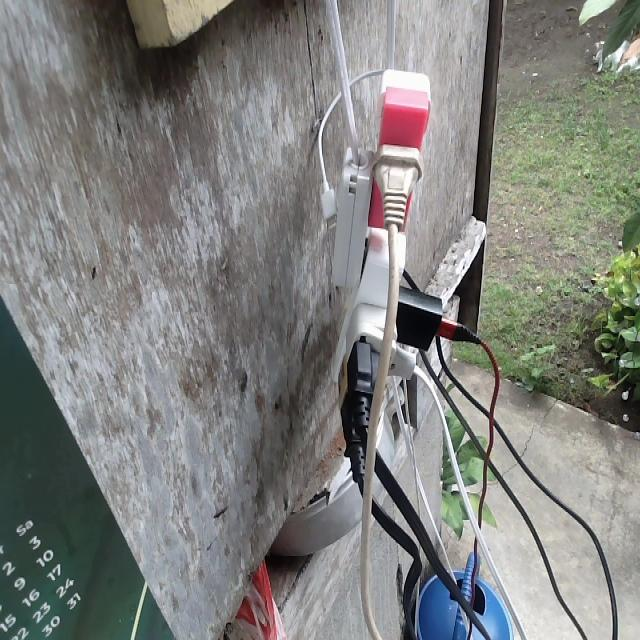-: (327, 65, 447, 427)
